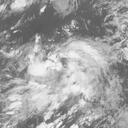cyclone: (34, 49, 91, 97)
